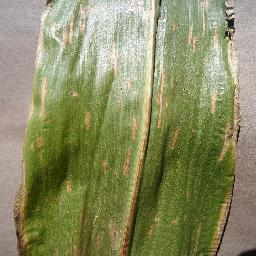Gray_Leaf_Spot: (192, 0, 246, 256), (9, 0, 48, 256), (117, 122, 149, 215), (47, 0, 101, 49), (68, 217, 130, 256), (150, 60, 174, 129), (159, 0, 193, 46), (106, 35, 122, 75), (165, 125, 182, 152), (144, 215, 159, 242), (80, 106, 95, 132), (63, 179, 75, 195), (100, 156, 110, 175), (170, 215, 184, 228), (124, 73, 134, 91), (67, 89, 81, 98)
